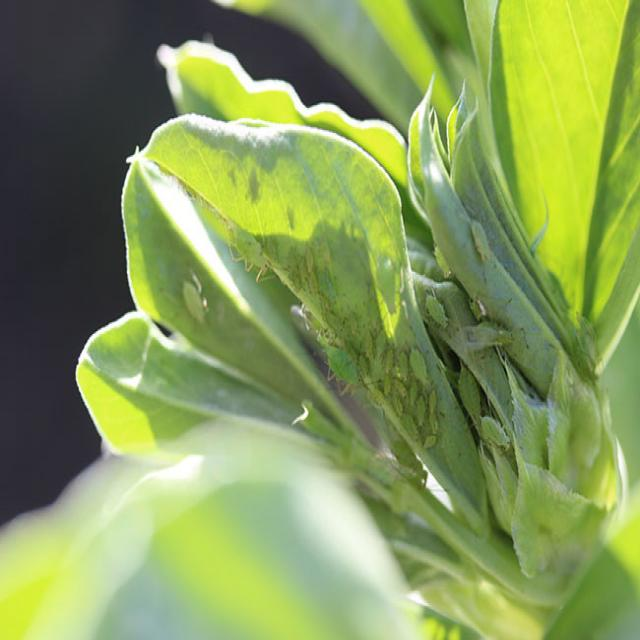Aphid-Grouped-: (322, 288, 461, 464)
